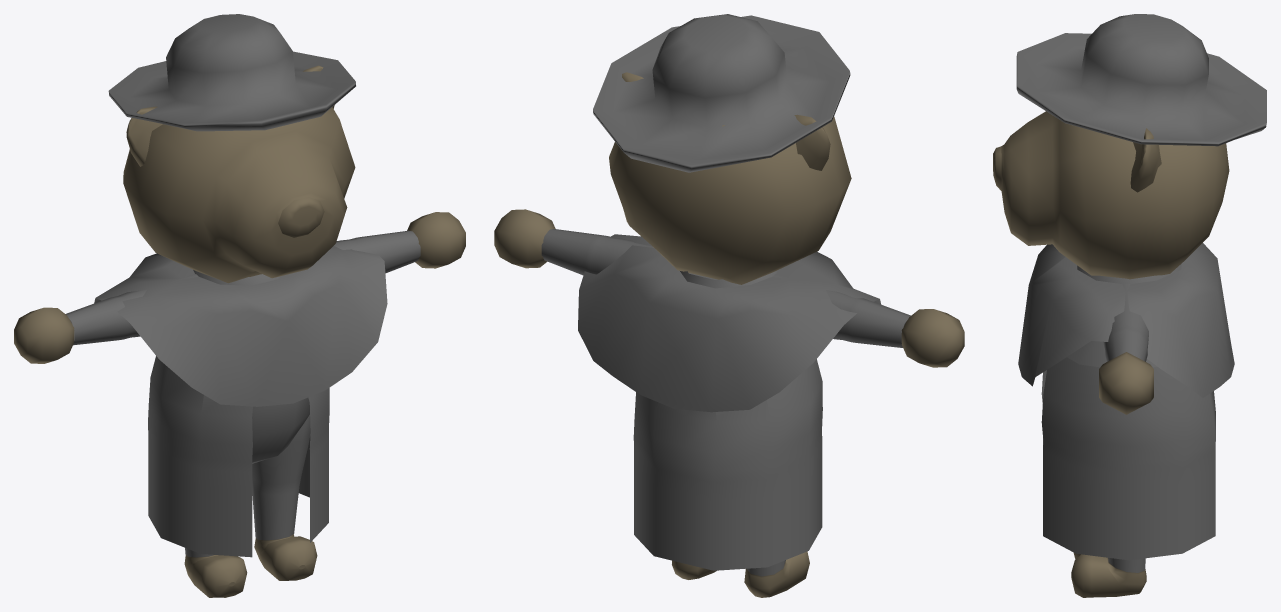
File: Priest_Bear_Rigged.fbx
The picture shows the model from 3 angles, left to right: view 1: azimuth 30°, elevation 25°; view 2: azimuth 150°, elevation 25°; view 3: azimuth 270°, elevation 25°; orthographic projection. The views are drawn at different scales.
Visible parts, largest first — view 1: Bear:Bear_Geo; view 2: Bear:Bear_Geo; view 3: Bear:Bear_Geo.
Boxes of the visible parts, x1,y1,x2,y2 form: Bear:Bear_Geo: (14, 14, 465, 597); Bear:Bear_Geo: (494, 14, 964, 597); Bear:Bear_Geo: (993, 14, 1266, 597).
Bounding box in the file's own units: 7.05 × 8.22 × 3.7.
